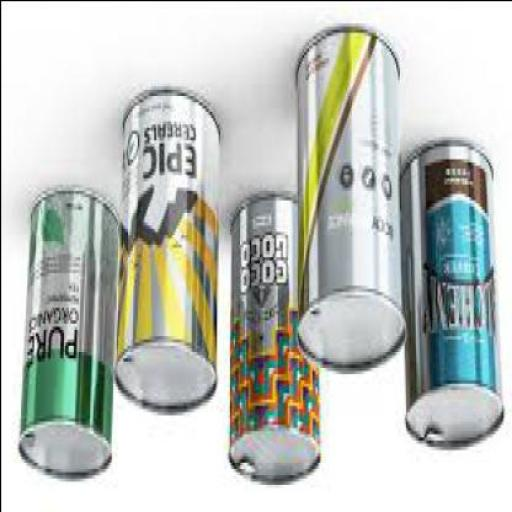metal: (294, 28, 409, 373), (115, 92, 220, 414), (400, 142, 507, 452), (18, 190, 119, 484), (230, 196, 321, 487)
